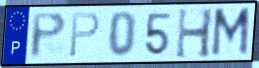0: (107, 10, 138, 59)
5: (144, 11, 173, 56)
H: (174, 6, 216, 60)
M: (209, 6, 252, 60)
P: (30, 11, 68, 61), (67, 11, 101, 59)
